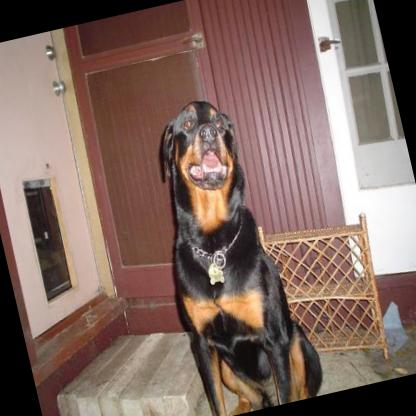Rottweiler: (130, 82, 328, 416)
